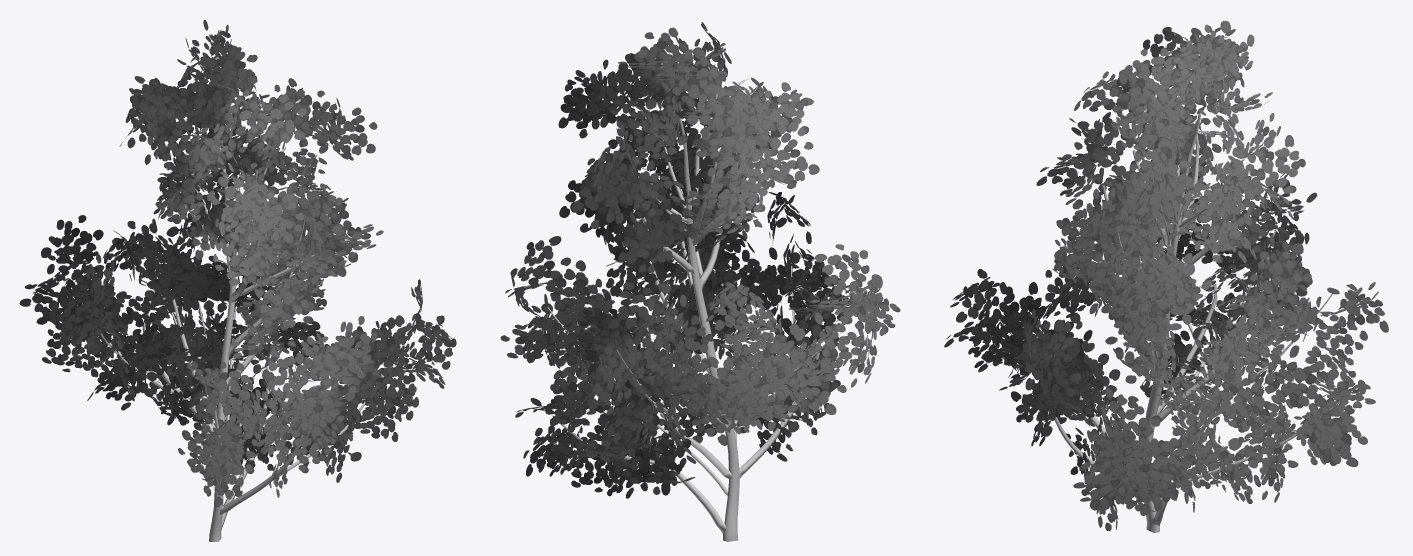
File: SM_HazelBush_01.fbx
The picture shows the model from 3 angles, left to right: view 1: azimuth 30°, elevation 25°; view 2: azimuth 150°, elevation 25°; view 3: azimuth 270°, elevation 25°; orthographic projection. The views are drawn at different scales.
Visible parts, largest first — view 1: SM_HazelBush_01_LOD0; view 2: SM_HazelBush_01_LOD0; view 3: SM_HazelBush_01_LOD0.
Part boxes in pixels (x1,y1,x2,y2): SM_HazelBush_01_LOD0: (19, 19, 456, 541); SM_HazelBush_01_LOD0: (500, 22, 900, 541); SM_HazelBush_01_LOD0: (944, 20, 1388, 532).
Size of what is drawn, in the model's own units: 4.01 by 4.9 by 3.87.
